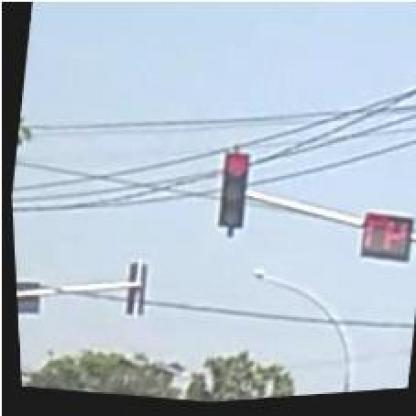red: (210, 151, 248, 234)
